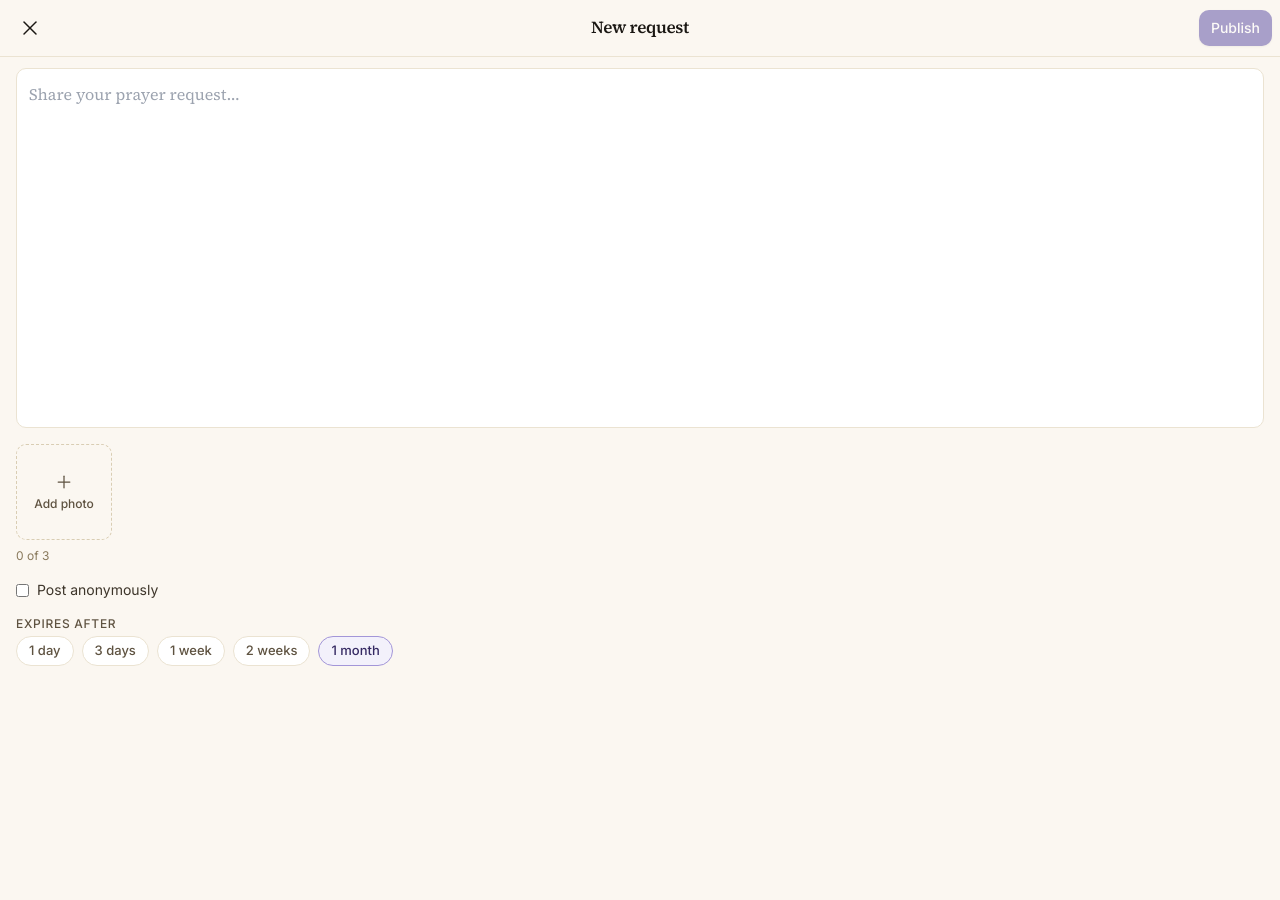
Test case: MobileComposePage › Publish becomes enabled when body has content
In the text box named "body": x=640, y=248 x1=16 y1=68 x2=1264 y2=428, type "help me pray"
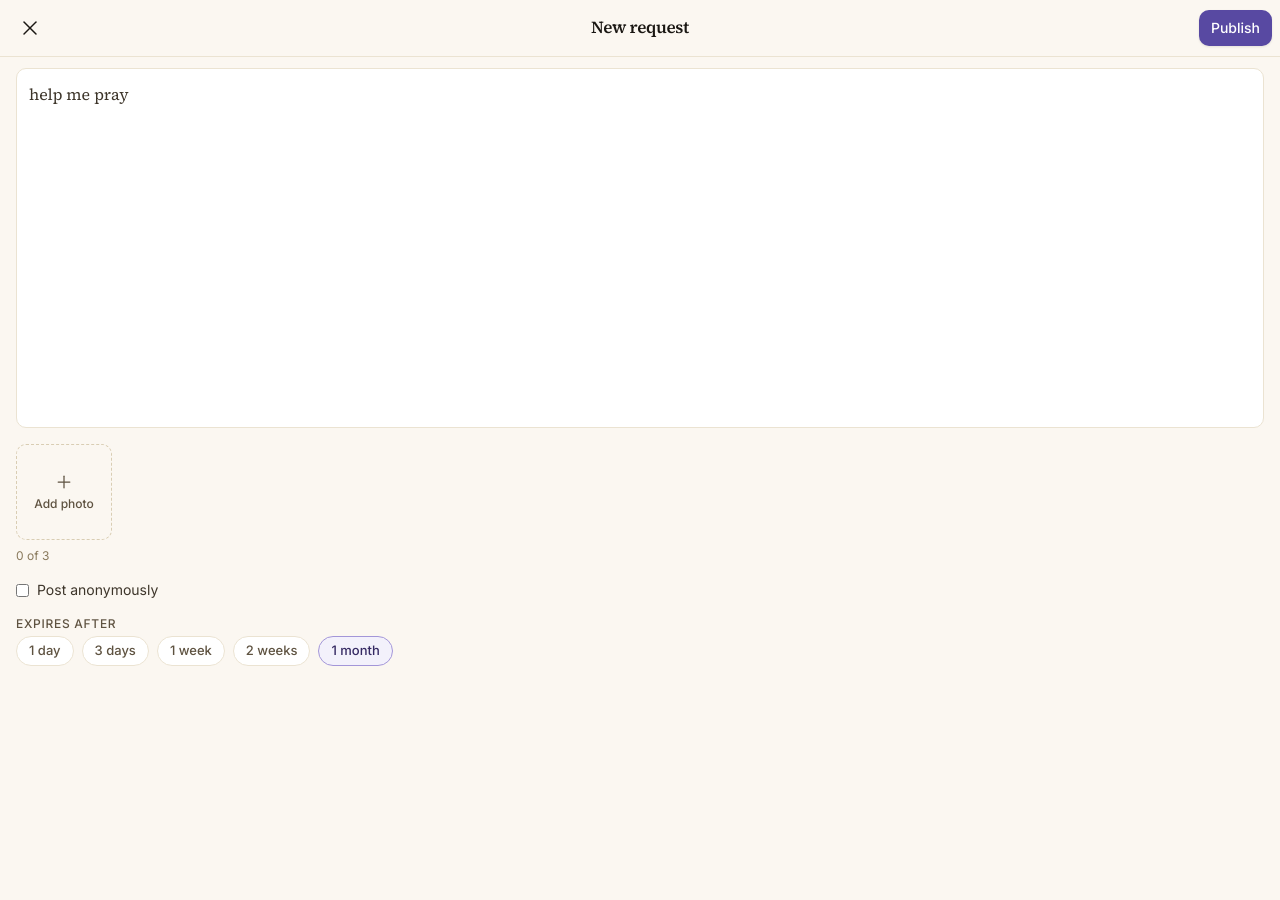
Expected: the button "Publish" is enabled, x1=1199 y1=10 x2=1272 y2=46
